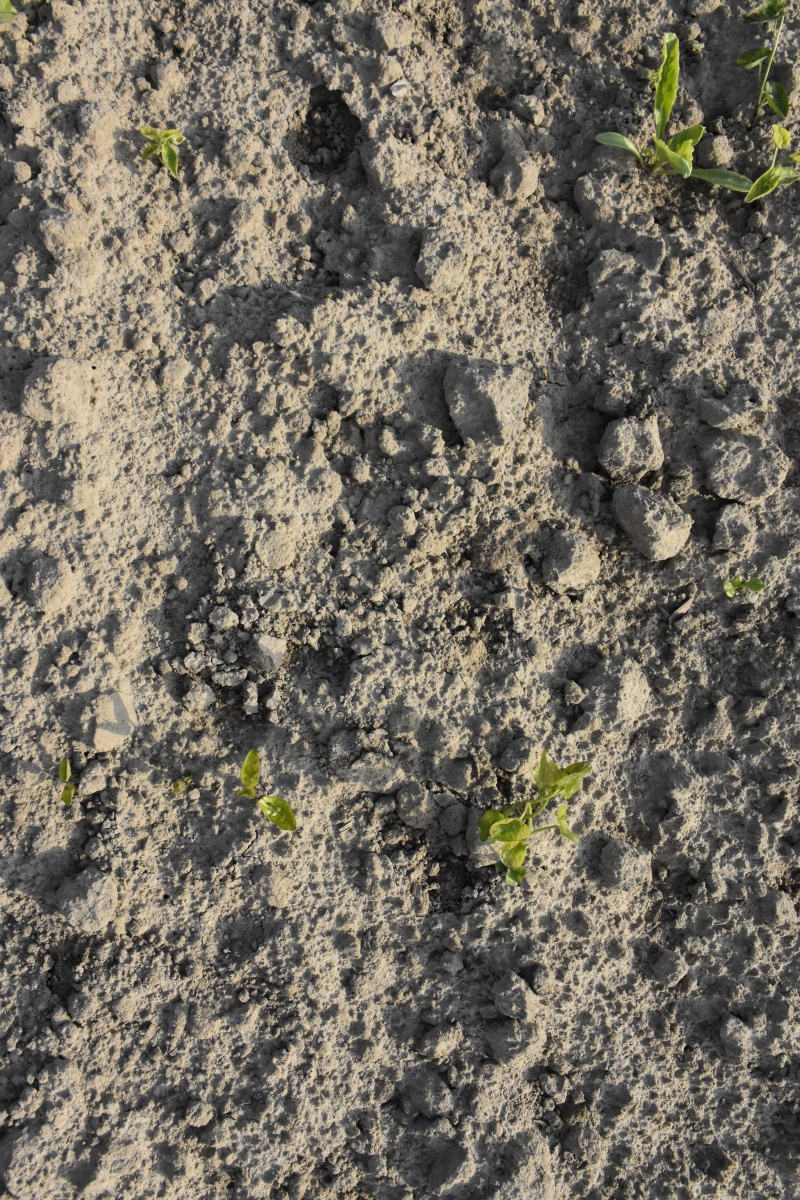field bindweed: (488, 744, 600, 894), (236, 744, 300, 841), (128, 116, 196, 198)
sugar beet: (590, 35, 748, 206)
